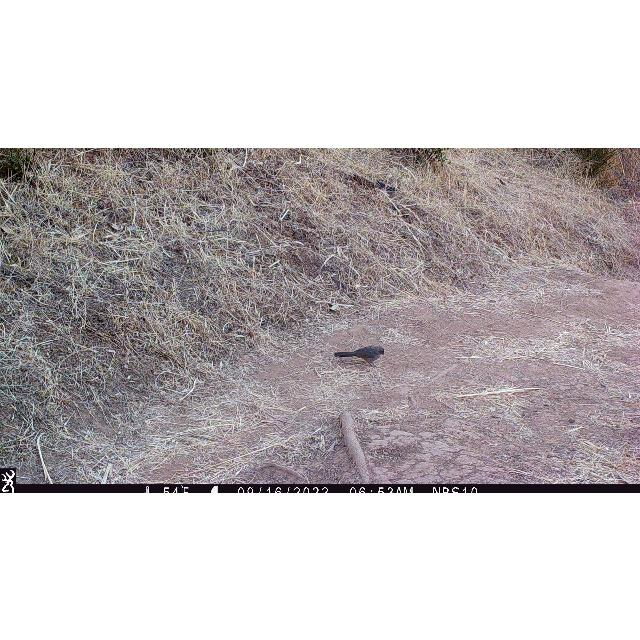animals: (333, 344, 385, 366)
